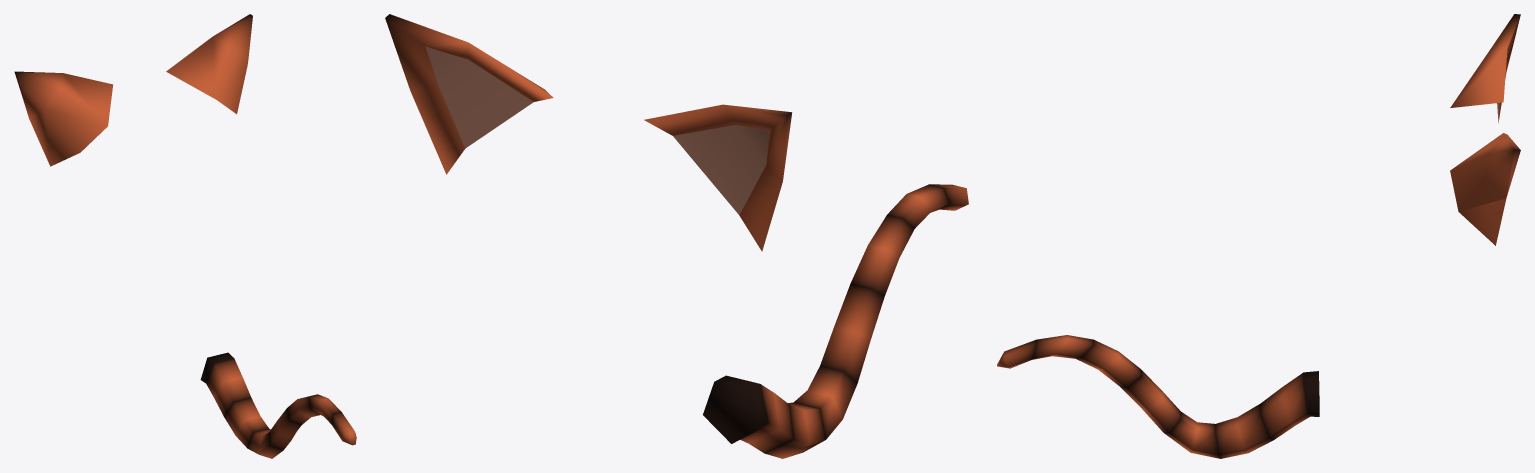
Rendered from hat_cat.glb.
The picture shows the model from 3 angles, left to right: view 1: azimuth 30°, elevation 25°; view 2: azimuth 150°, elevation 25°; view 3: azimuth 270°, elevation 25°; orthographic projection. The views are drawn at different scales.
Visible parts, largest first — view 1: hat_cat; view 2: hat_cat; view 3: hat_cat.
Boxes of the visible parts, x1,y1,x2,y2 form: hat_cat: (14,14,356,458); hat_cat: (385,14,968,458); hat_cat: (997,14,1520,458).
Bounding box in the file's own units: 0.4431 × 0.5727 × 0.7213.
